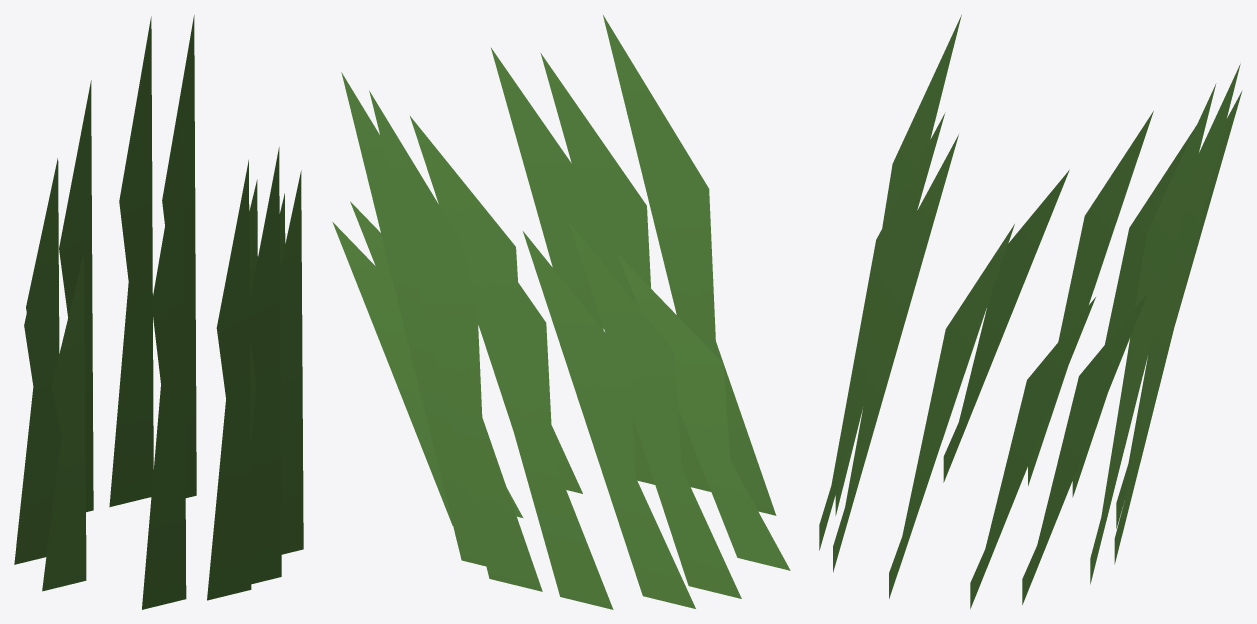
The model's file is grass.glb.
3 views of the same model, side by side, from view 1: azimuth 30°, elevation 25°; view 2: azimuth 150°, elevation 25°; view 3: azimuth 270°, elevation 25° (orthographic). The views are drawn at different scales.
Parts seen in each view (by area): view 1: grass; view 2: grass; view 3: grass.
Part boxes in pixels (bbox=[...]): grass: bbox=[14, 15, 303, 609]; grass: bbox=[332, 15, 790, 609]; grass: bbox=[819, 15, 1242, 608].
Size of the model in its own units: 0.3432 by 0.465 by 0.3354.
